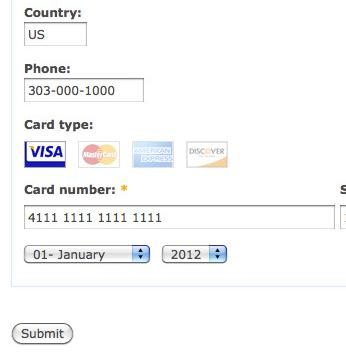button: (10, 320, 71, 349)
field: (22, 203, 336, 232), (23, 75, 146, 104), (21, 241, 152, 267), (23, 20, 92, 48), (158, 243, 231, 265)
field_with_label: (20, 184, 337, 234), (21, 62, 148, 106), (22, 7, 95, 49)
